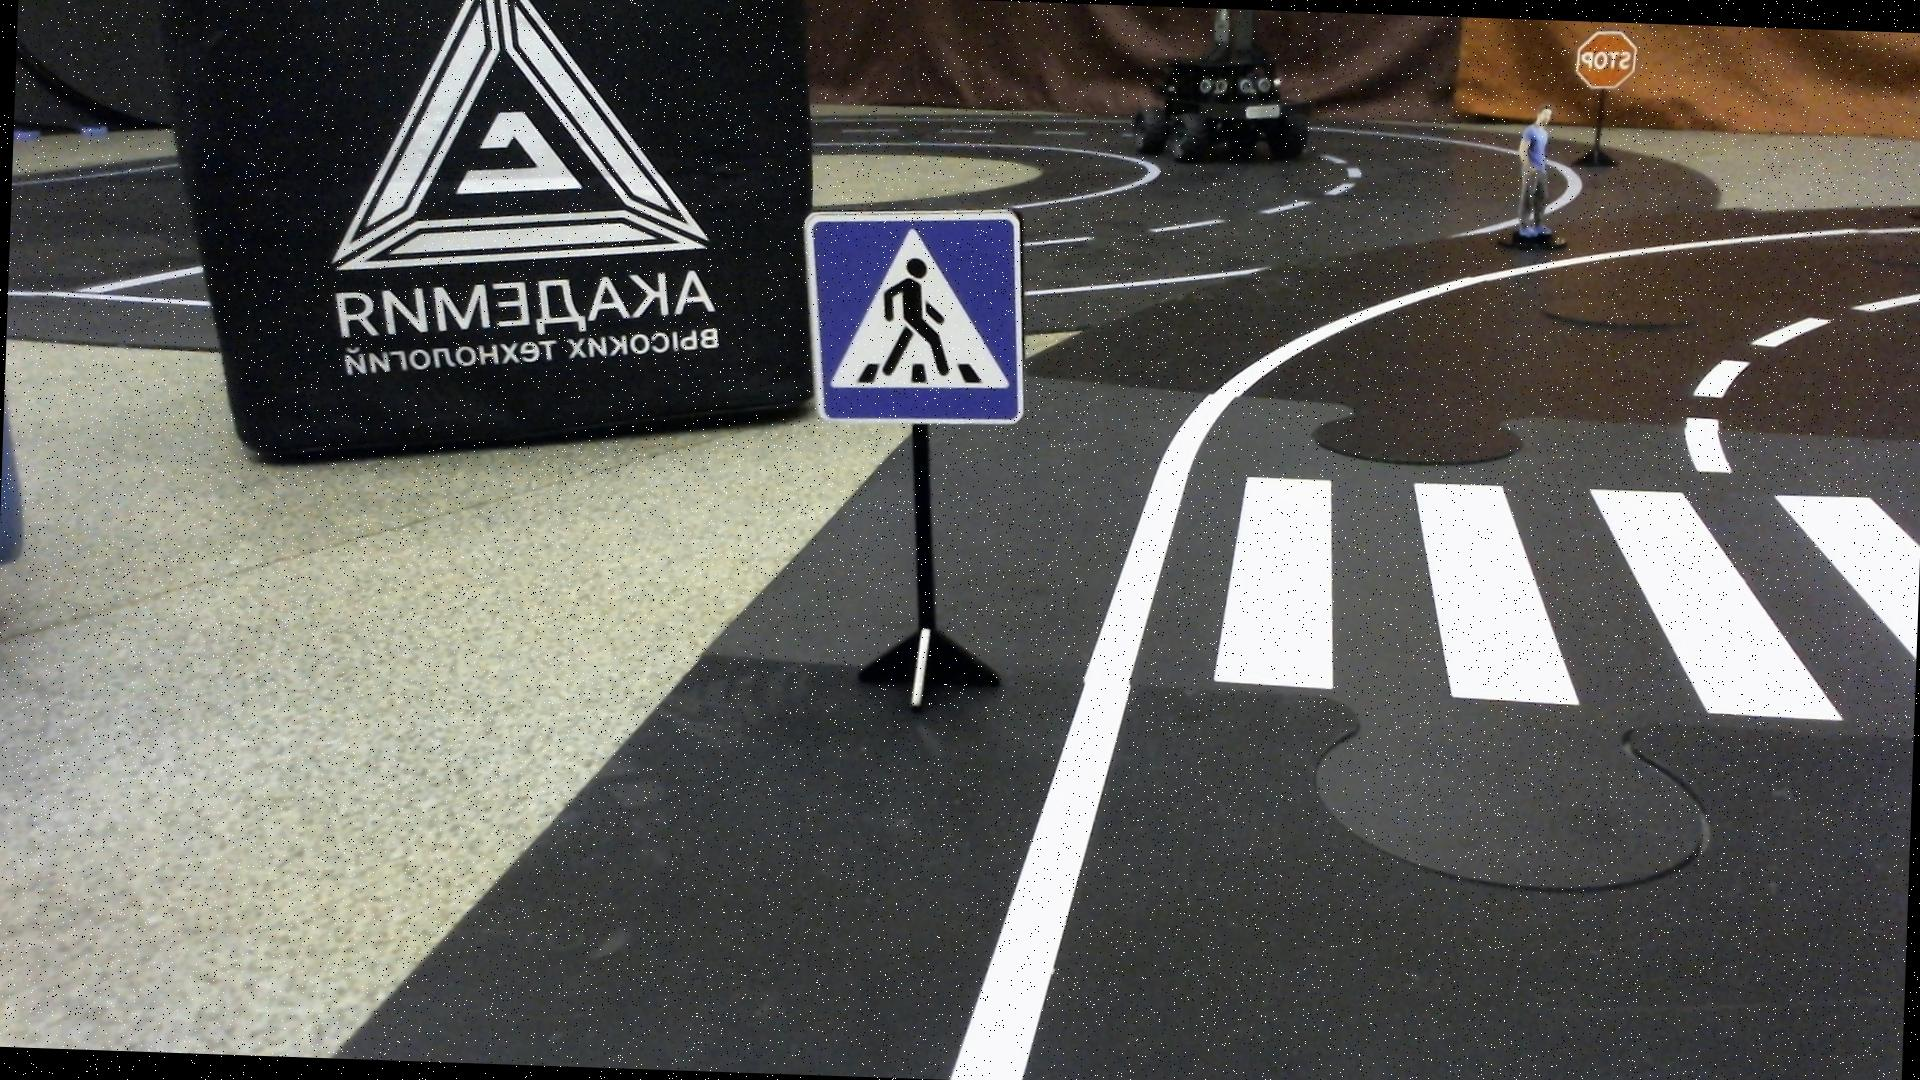crossing: (1091, 466, 1920, 738)
person: (1509, 102, 1564, 240)
